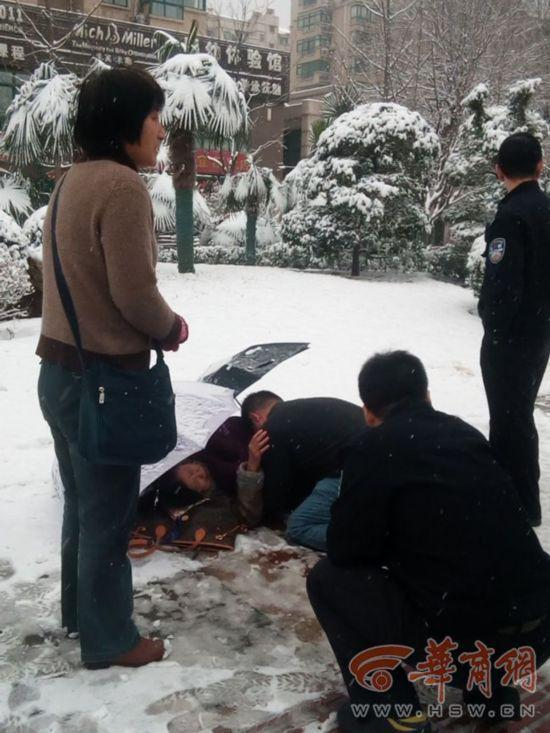Fall-Detected: (135, 398, 292, 557)
